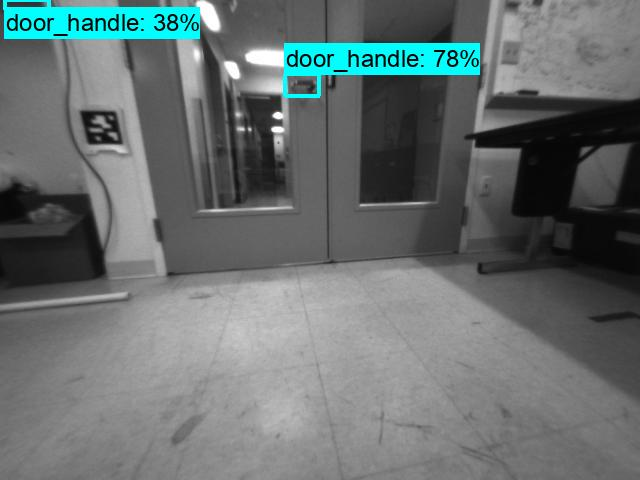door_handle: (284, 76, 319, 96)
